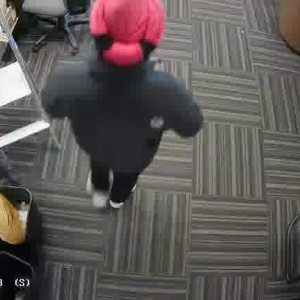person: (69, 0, 187, 194)
